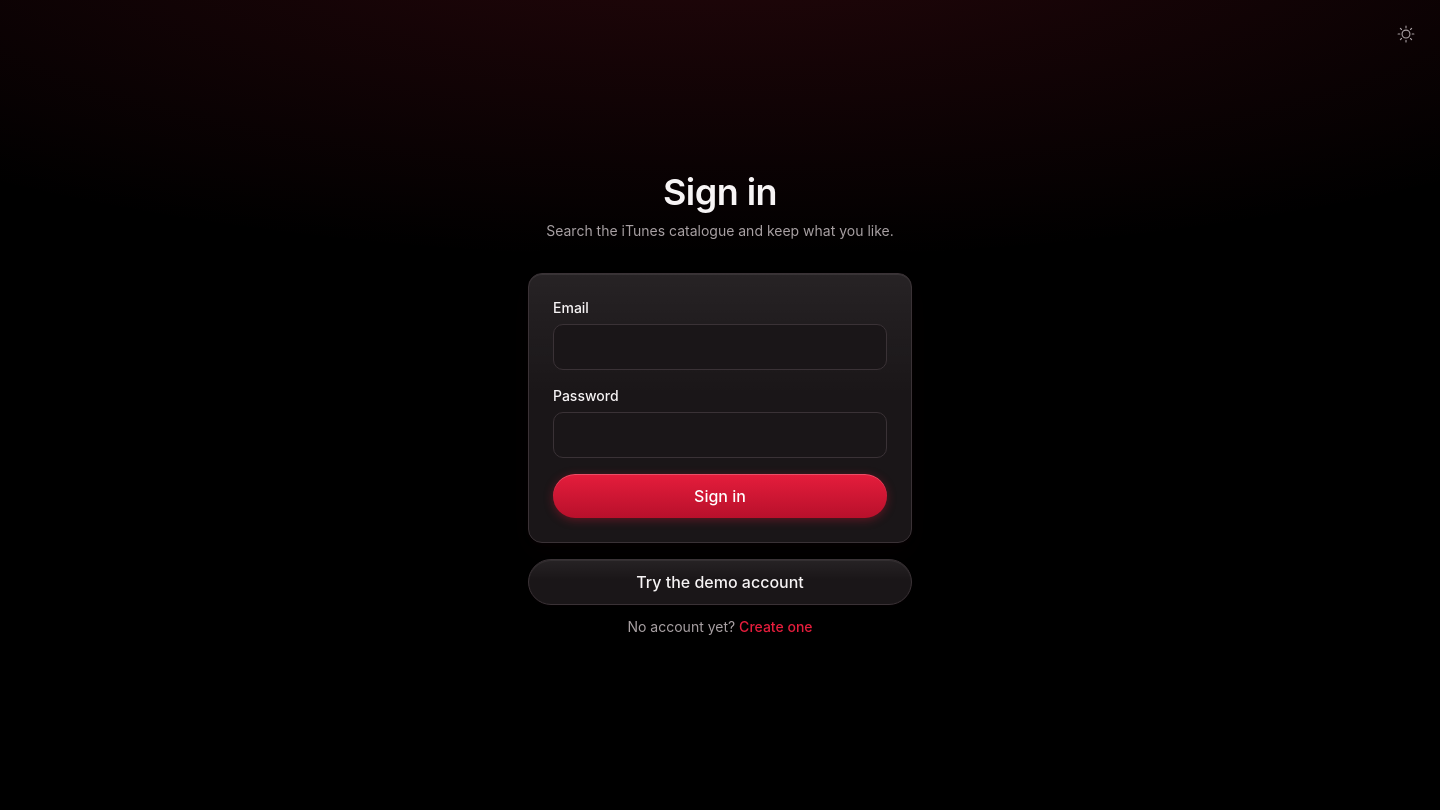
Test case: signing in › says when a field is empty
Click the button "Sign in". click: (720, 496)
box: [553, 474, 887, 518]
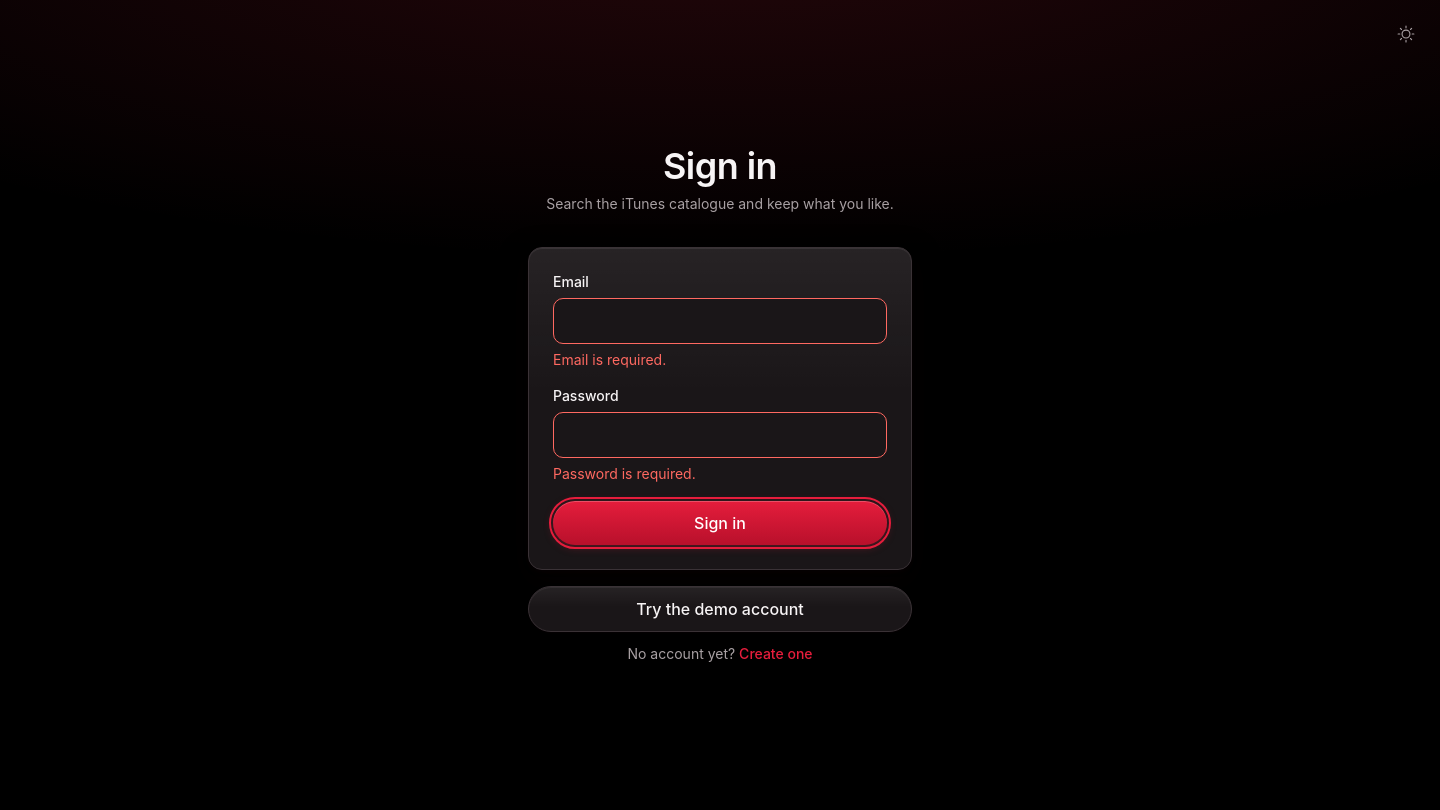
Expected: the text "Email is required." is shown, [553, 351, 666, 368]
Expected: the text "Password is required." is shown, [553, 466, 696, 482]
